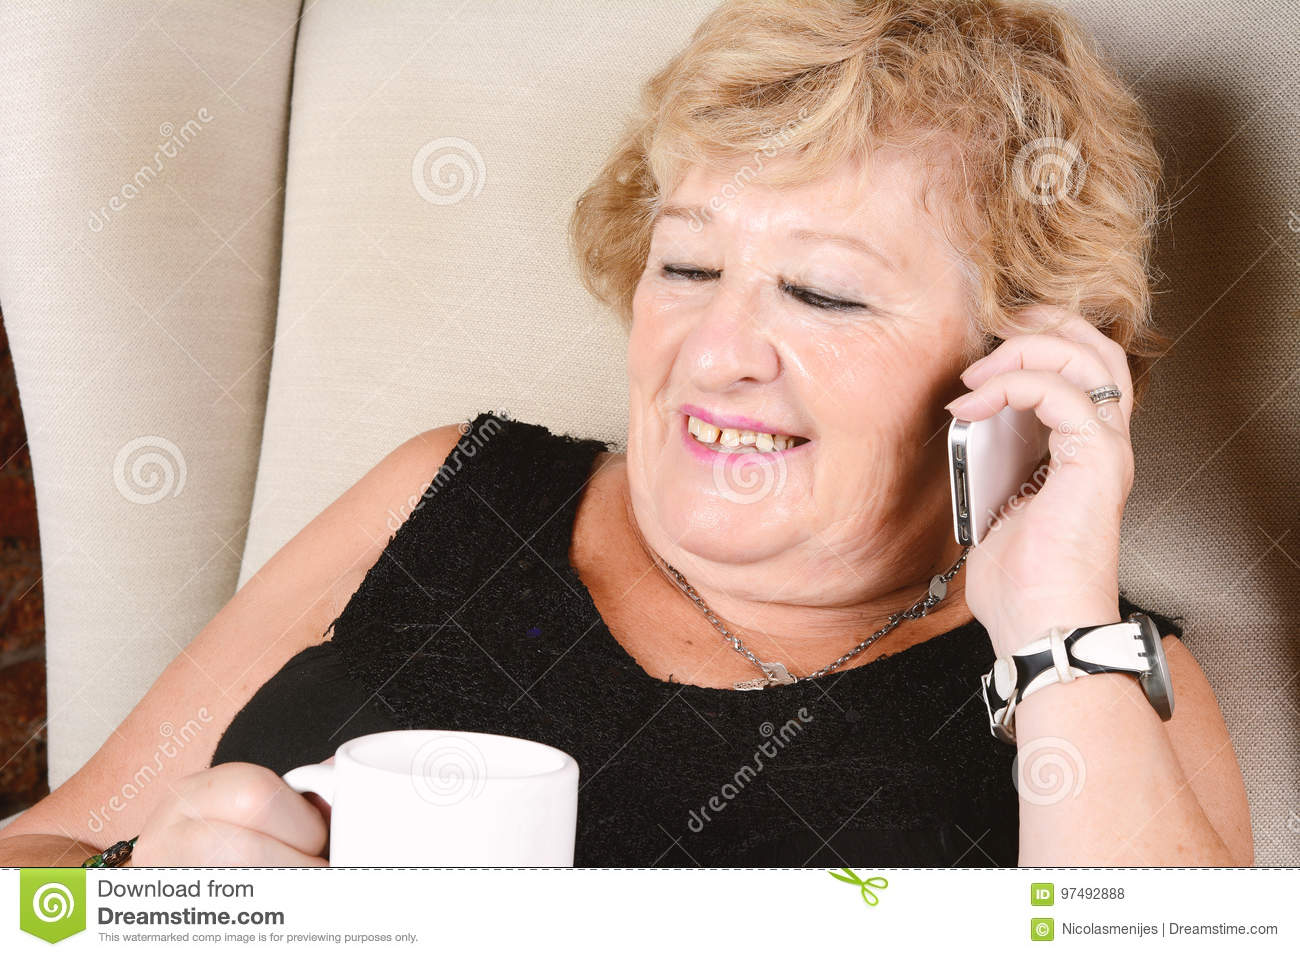phone: (943, 315, 1090, 558)
talk: (624, 197, 1133, 656)
